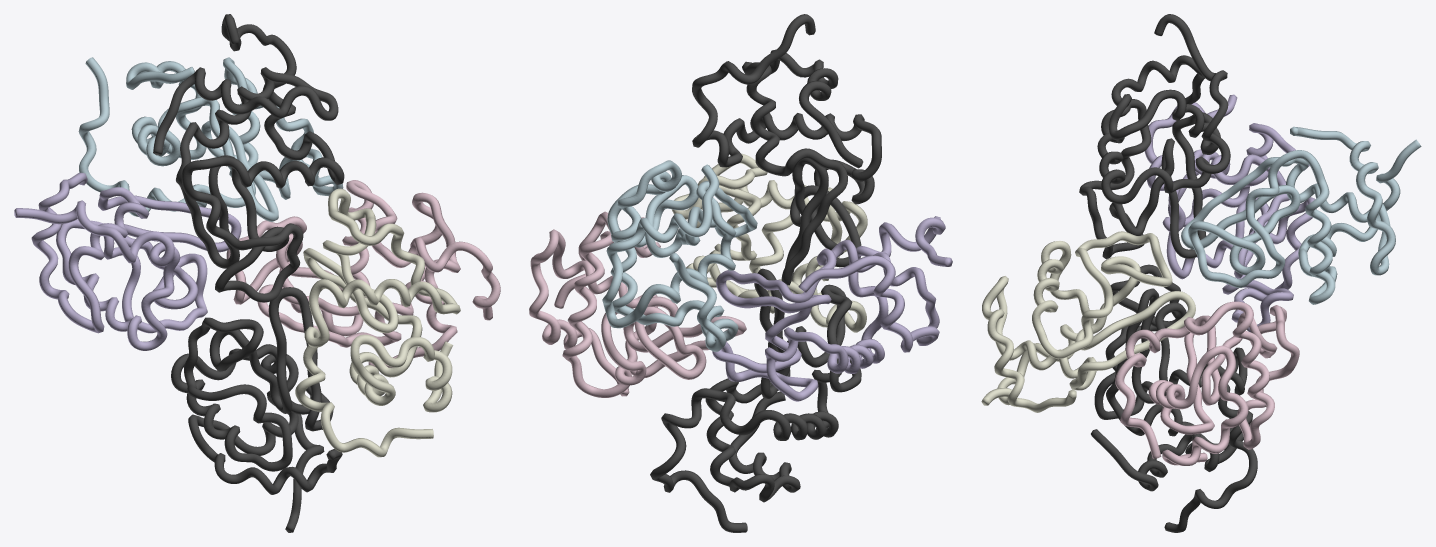
File: bands.glb
The picture shows the model from 3 angles, left to right: view 1: azimuth 30°, elevation 25°; view 2: azimuth 150°, elevation 25°; view 3: azimuth 270°, elevation 25°; orthographic projection. The views are drawn at different scales.
Visible parts, largest first — view 1: geo1.002; view 2: geo1.002; view 3: geo1.002.
Boxes of the visible parts, x1,y1,x2,y2 form: geo1.002: (14, 14, 500, 532); geo1.002: (529, 14, 952, 532); geo1.002: (981, 14, 1421, 532).
Size of the model in its own units: 75.99 by 88.34 by 72.05.
